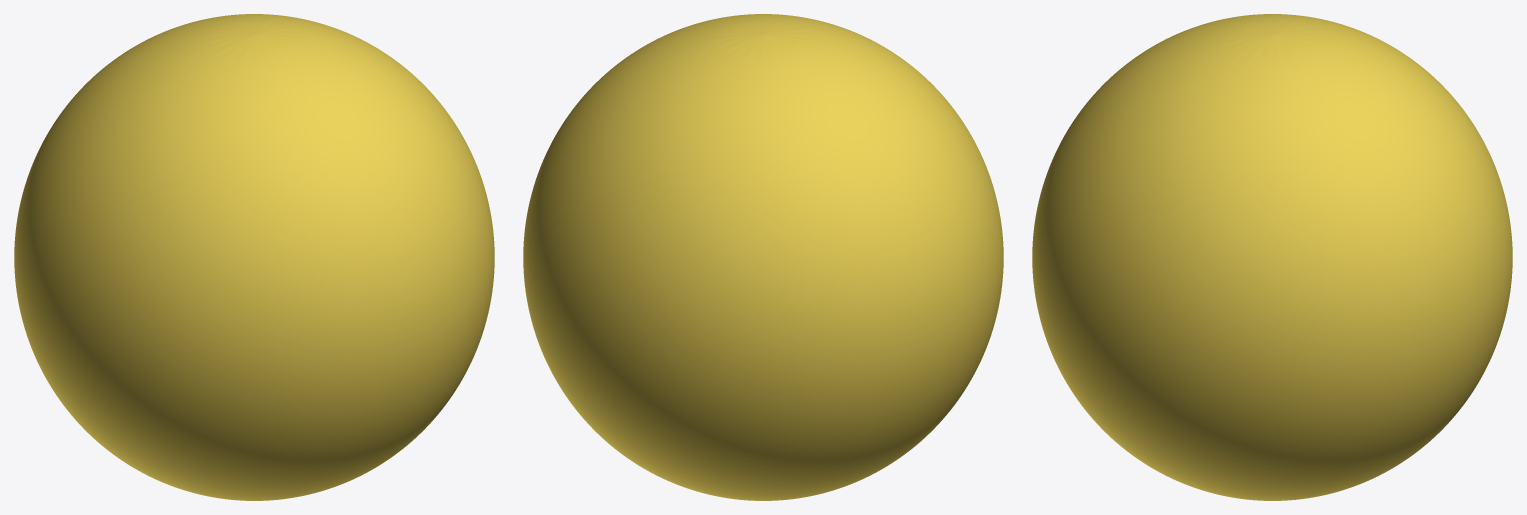
Rendered from Gun.fbx.
3 renders of one model, left to right at view 1: azimuth 30°, elevation 25°; view 2: azimuth 150°, elevation 25°; view 3: azimuth 270°, elevation 25°, orthographic.
Parts seen in each view (by area): view 1: Player; view 2: Player; view 3: Player.
Boxes of the visible parts, box(x1,y1,x2,y2) form: Player: box(14, 14, 494, 500); Player: box(523, 14, 1003, 500); Player: box(1032, 14, 1512, 500).
Bounding box in the file's own units: 97.75 × 99.68 × 97.75.
